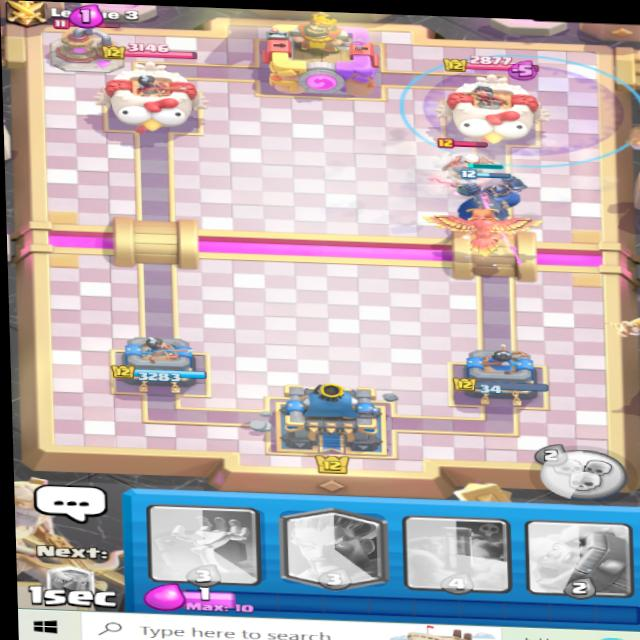elixir-collector: (51, 18, 125, 77)
magic-archer: (429, 138, 497, 193)
